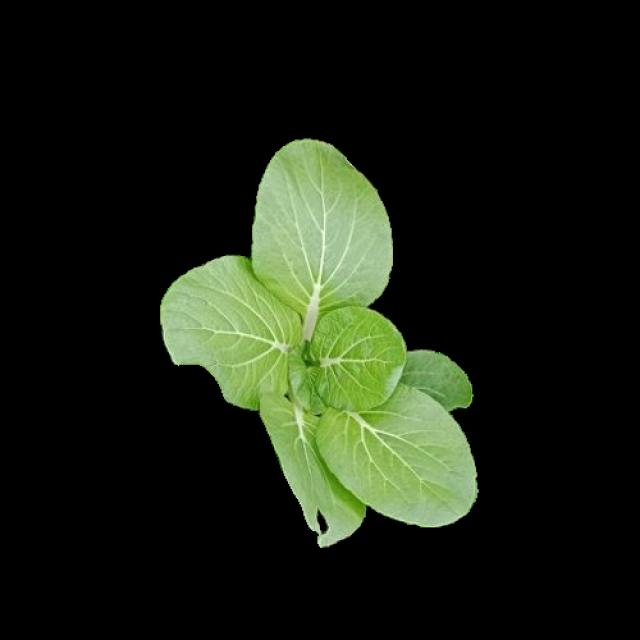not-mature: (160, 139, 479, 546)
unhealthy: (258, 386, 368, 548)
